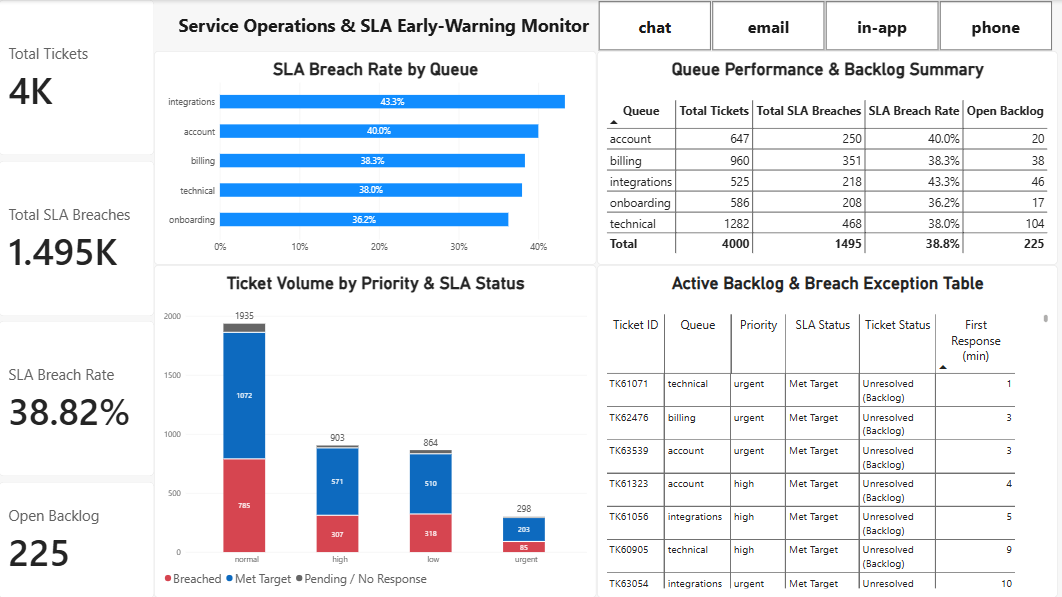

This screenshot's page, from the dashboard's own definition file:
{"tool":"powerbi","page":{"name":"SLA Monitor","canvas":[1920,1080],"ordinal":0},"visuals":[{"type":"cardVisual","fields":{"Data":["_Measures.Total Tickets"]},"box":[0,0,280,280],"z":0},{"type":"cardVisual","fields":{"Data":["_Measures.Total SLA Breaches"]},"box":[0,290,280,280],"z":1},{"type":"cardVisual","fields":{"Data":["_Measures.SLA Breach Rate"]},"box":[0,580,280,280],"z":2},{"type":"cardVisual","fields":{"Data":["_Measures.Open Backlog"]},"box":[0,870,280,210],"z":3},{"type":"barChart","title":"SLA Breach Rate by Queue","fields":{"Category":["SLA.queue"],"Y":["_Measures.SLA Breach Rate"]},"box":[280.8,92.9,799,386.1],"z":4},{"type":"tableEx","title":"Queue Performance & Backlog Summary","fields":{"Values":["SLA.queue","_Measures.Total Tickets","_Measures.Total SLA Breaches","_Measures.SLA Breach Rate","_Measures.Open Backlog"]},"box":[1079.7,92.9,832,386.1],"z":5},{"type":"columnChart","title":"Ticket Volume by Priority & SLA Status","fields":{"Category":["SLA.priority"],"Series":["SLA.sla_status"],"Y":["_Measures.Total Tickets"]},"box":[280.8,479,799,600.8],"z":6},{"type":"tableEx","title":"Active Backlog & Breach Exception Table","fields":{"Values":["SLA.ticket_id","SLA.queue","SLA.priority","SLA.sla_status","SLA.ticket_status","Sum(SLA.first_response_min)"]},"box":[1079.7,479,832,600.8],"z":7},{"type":"slicer","fields":{"Values":["SLA.channel"]},"box":[1061.2,0,858.8,92.9],"z":8},{"type":"textbox","box":[251.9,22.7,887.7,70.2],"z":9}]}

Visuals, with their boxes in screenshot pixels (x1, y1, x2, y2), scaled from the page's 1920x1080 canvas onto the 1062x597 screenshot:
cardVisual - _Measures.Total Tickets: bbox=(0, 0, 155, 155)
cardVisual - _Measures.Total SLA Breaches: bbox=(0, 160, 155, 315)
cardVisual - _Measures.SLA Breach Rate: bbox=(0, 321, 155, 475)
cardVisual - _Measures.Open Backlog: bbox=(0, 481, 155, 596)
"SLA Breach Rate by Queue" barChart: bbox=(155, 51, 597, 265)
"Queue Performance & Backlog Summary" tableEx: bbox=(597, 51, 1057, 265)
"Ticket Volume by Priority & SLA Status" columnChart: bbox=(155, 265, 597, 596)
"Active Backlog & Breach Exception Table" tableEx: bbox=(597, 265, 1057, 596)
slicer - SLA.channel: bbox=(587, 0, 1061, 51)
textbox: bbox=(139, 13, 630, 51)
